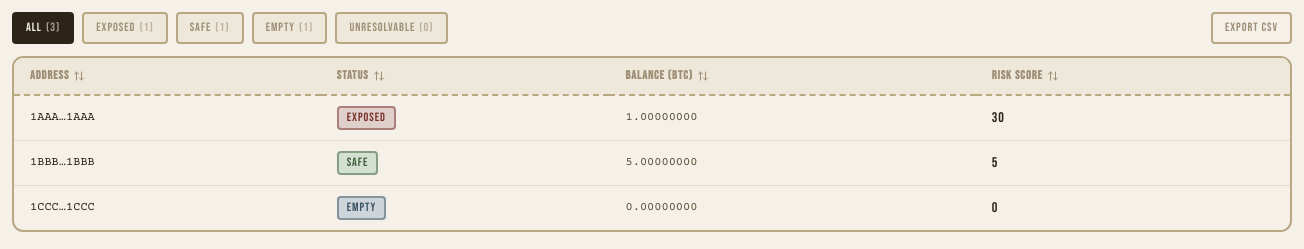
Test: AddressTable › shows "No addresses match" when filter returns nothing
This screenshot has width=1304, height=249.
What coordinates should you click on to do the following:
click the button "Unresolvable(0)"
I would click on:
 (392, 28)
Its box is top-left (335, 12), bottom-right (448, 44).
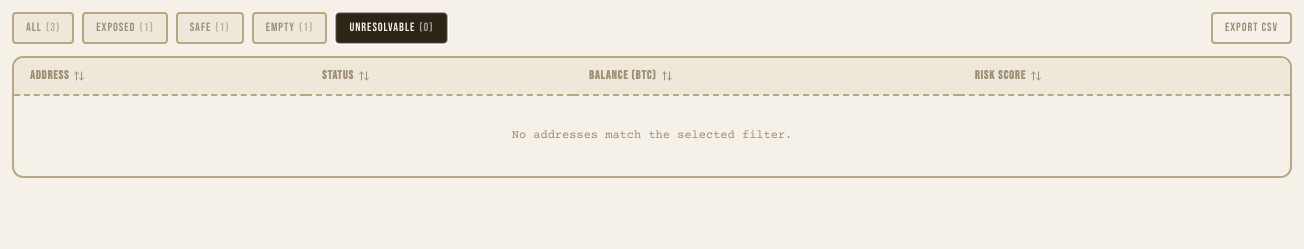
Expected: the text "No addresses match the selected filter." is shown, top-left (14, 95), bottom-right (1290, 176)
